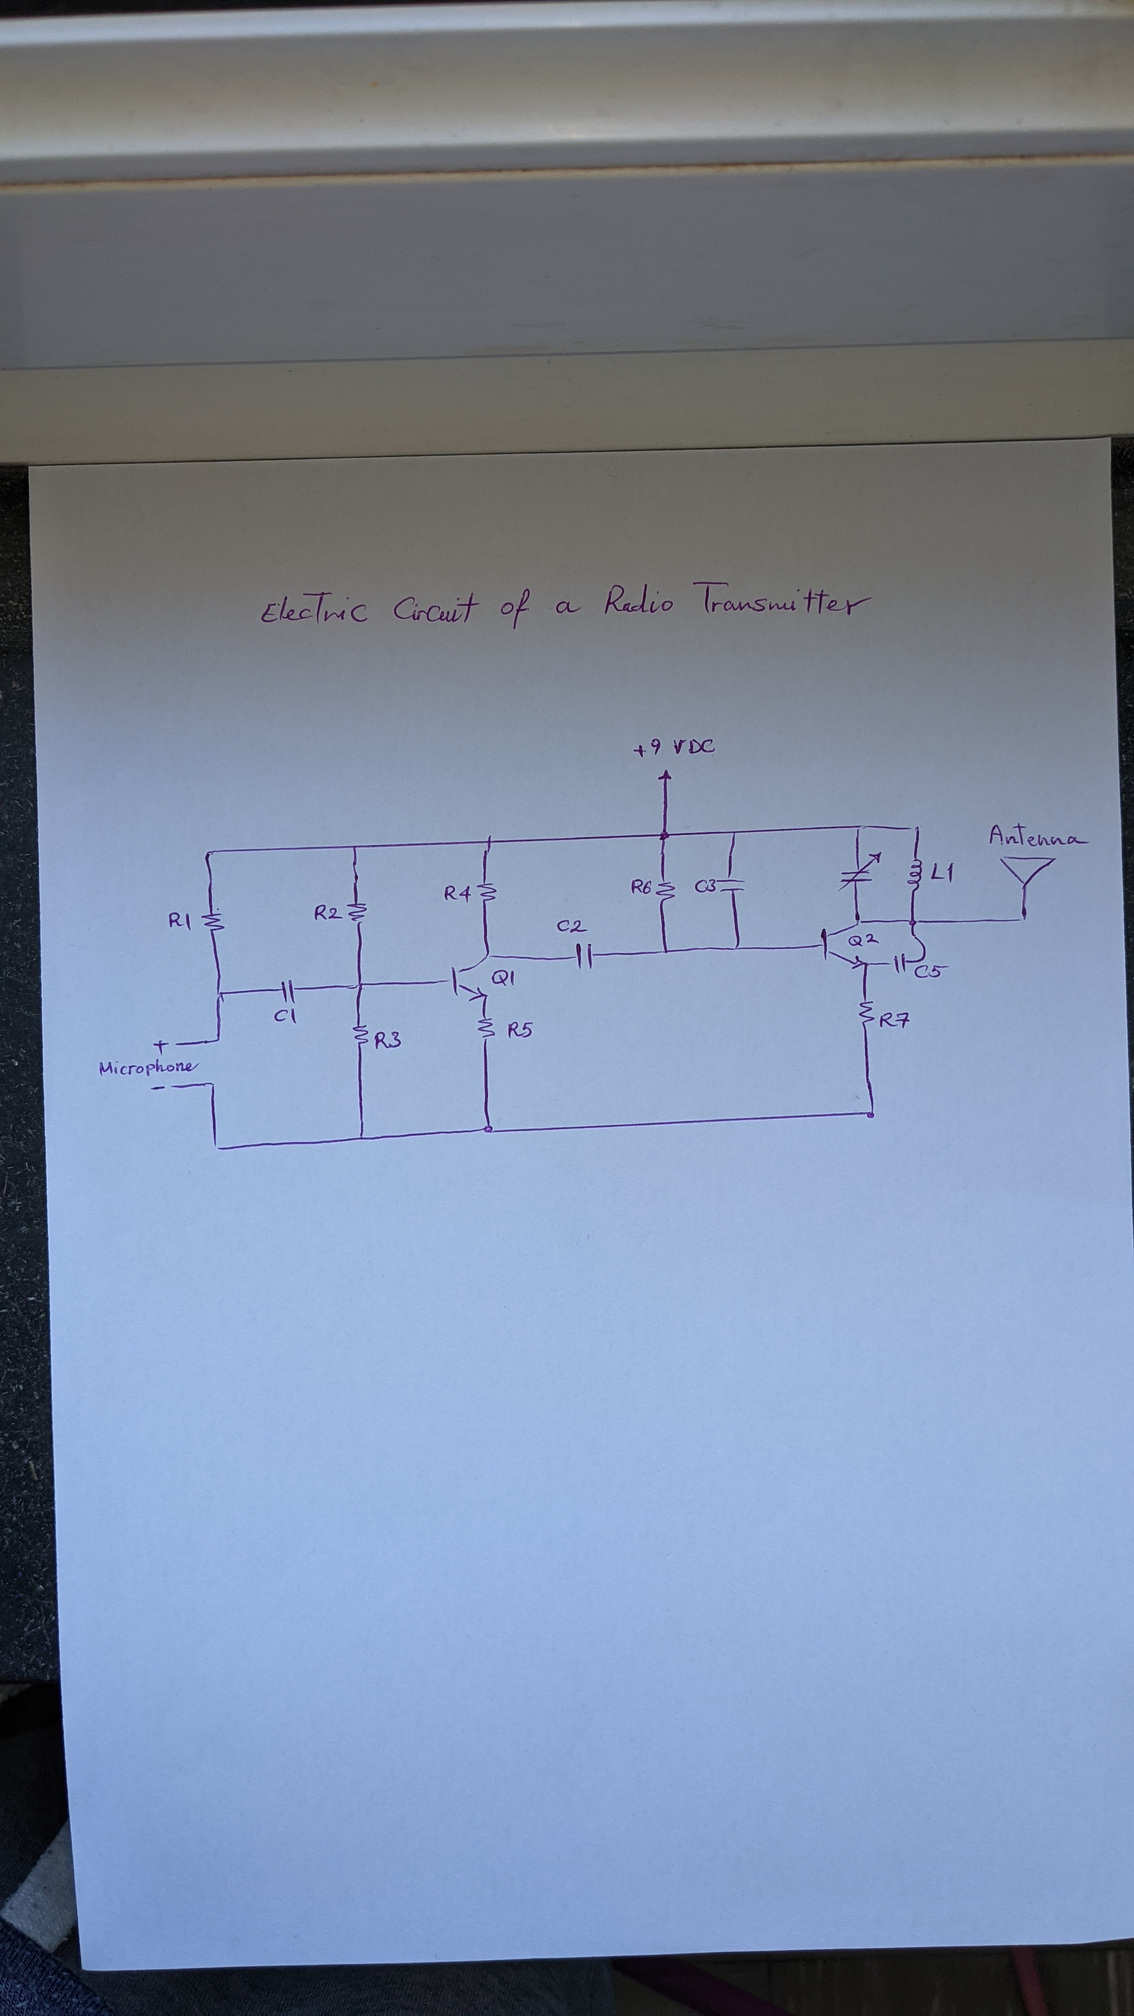antenna: (998, 854, 1058, 888)
capacitor.unpolarized: (836, 850, 883, 893), (570, 940, 600, 972), (714, 872, 749, 897), (278, 976, 300, 1005), (888, 951, 912, 975)
inductor: (904, 856, 925, 894)
junction: (478, 1120, 498, 1135), (482, 834, 496, 854), (864, 1106, 879, 1122), (213, 986, 227, 1002), (353, 978, 368, 991), (201, 847, 216, 860), (656, 829, 672, 842), (1016, 912, 1032, 925), (210, 1140, 223, 1153), (356, 1130, 368, 1144), (906, 917, 921, 928), (853, 822, 868, 834), (907, 822, 921, 834), (660, 944, 673, 955), (917, 954, 928, 964), (732, 942, 742, 953), (728, 828, 739, 838), (208, 1079, 217, 1088), (349, 842, 359, 852), (213, 1036, 223, 1044)
resistor: (199, 908, 226, 935), (345, 900, 370, 928), (475, 1014, 498, 1043), (857, 996, 876, 1030), (654, 876, 676, 906), (475, 881, 498, 906), (352, 1022, 371, 1050)
terminal: (168, 1081, 179, 1091), (172, 1040, 181, 1050)
text: (258, 576, 876, 633), (987, 820, 1092, 849), (97, 1056, 201, 1079), (631, 737, 717, 759), (312, 901, 345, 924), (878, 1009, 912, 1030), (442, 883, 474, 906), (929, 860, 957, 885), (372, 1029, 403, 1051), (555, 917, 590, 936), (505, 1019, 534, 1041), (846, 930, 881, 948), (912, 964, 950, 980), (490, 966, 516, 989), (168, 910, 192, 932), (629, 876, 654, 897), (271, 1007, 298, 1026), (692, 876, 717, 894), (151, 1038, 169, 1055), (150, 1081, 166, 1094)
transistor: (818, 917, 874, 971), (444, 948, 496, 1004)
vss: (656, 767, 676, 784)
